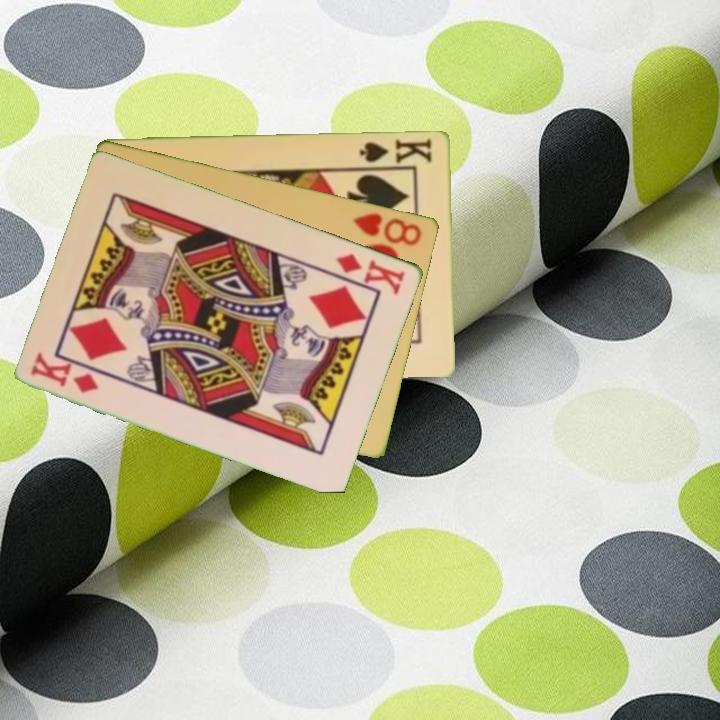8h: (348, 209, 425, 248)
Kd: (332, 249, 409, 297), (27, 350, 103, 397)
Ks: (356, 134, 435, 166)
